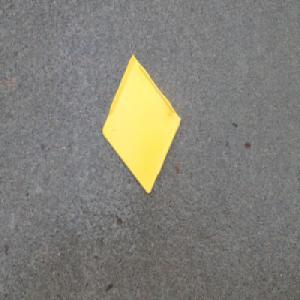PlasticPart: (101, 53, 181, 196)
